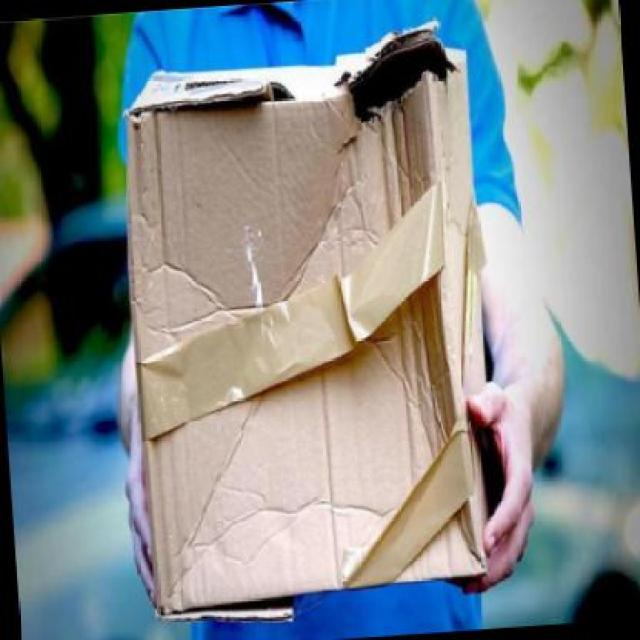box: (116, 14, 515, 628)
